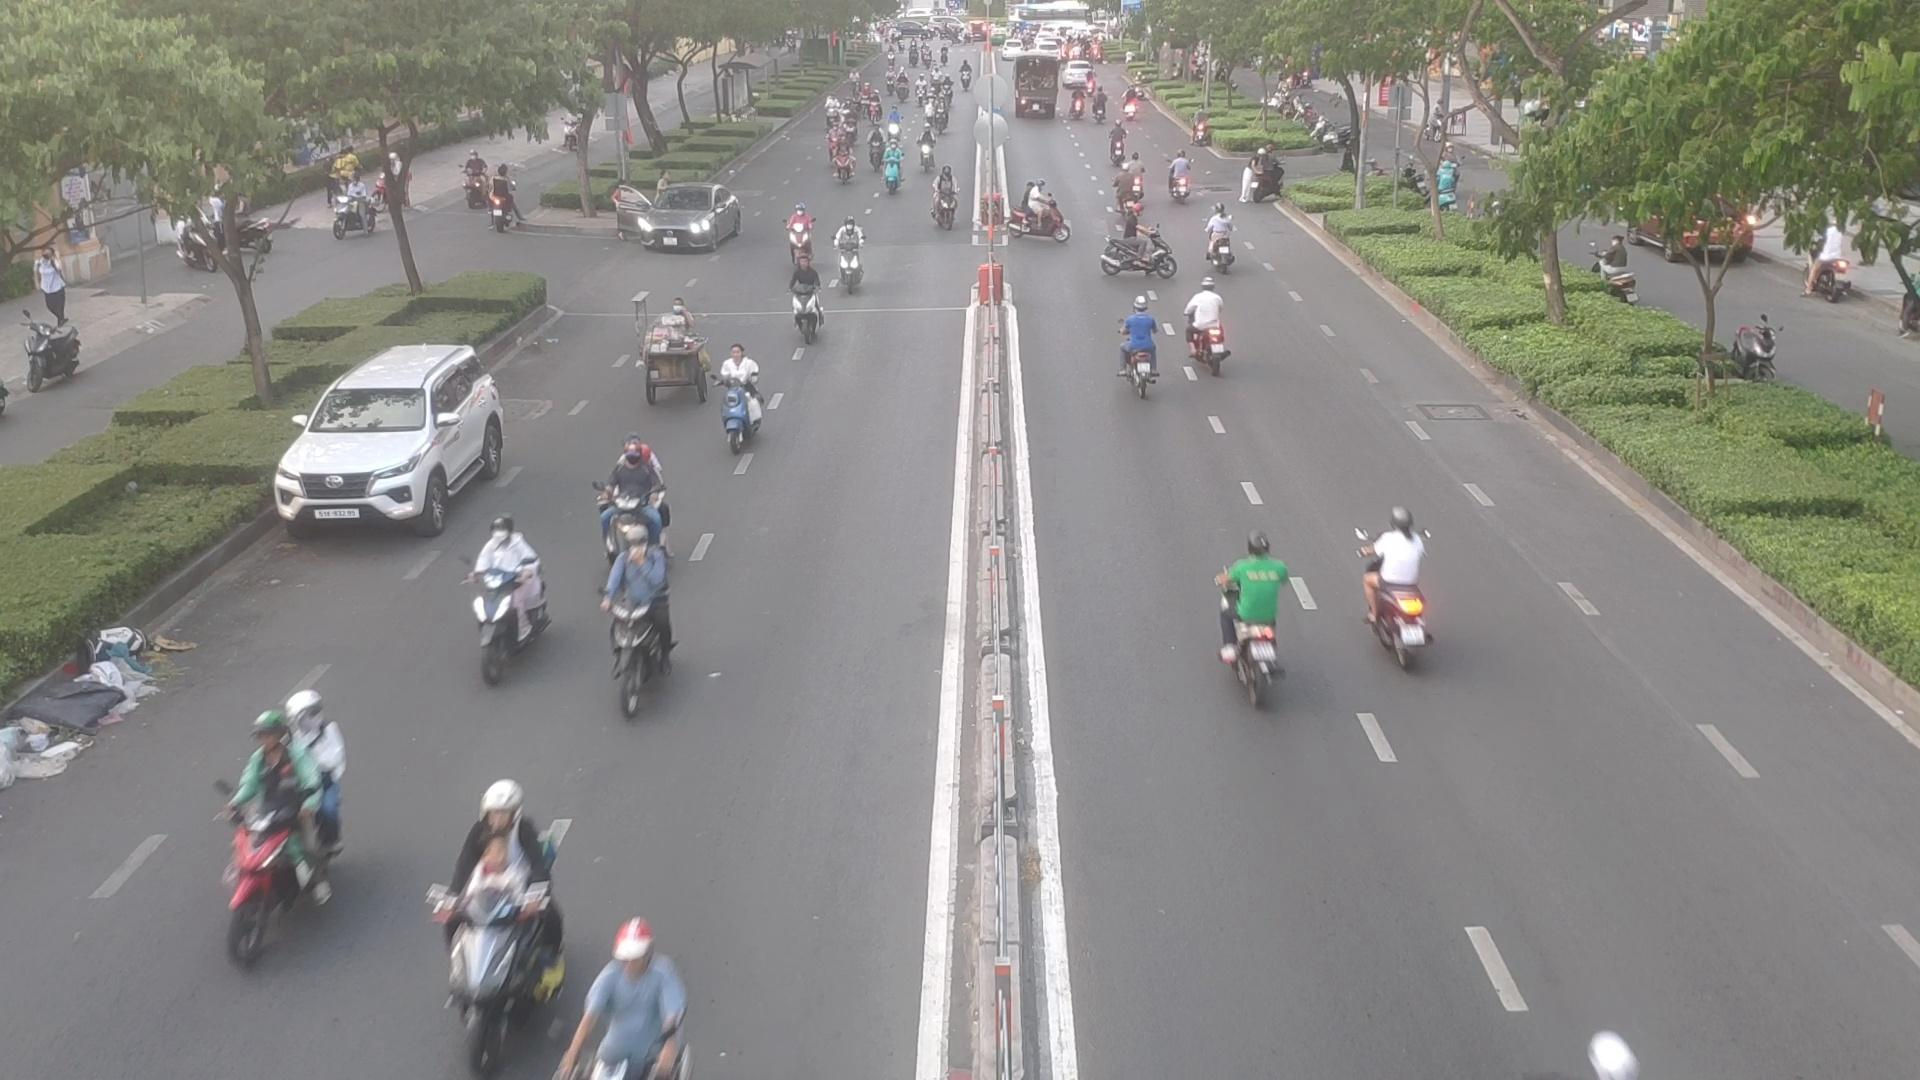car: (270, 343, 512, 535), (616, 187, 749, 258)
motorbike: (219, 698, 345, 926), (454, 786, 560, 1054), (574, 910, 679, 1080), (593, 529, 674, 694), (1215, 535, 1294, 690), (476, 498, 535, 691), (1361, 512, 1431, 661), (601, 430, 674, 539), (711, 339, 764, 448), (1101, 208, 1174, 281), (1009, 179, 1069, 251), (1184, 277, 1224, 371), (1121, 303, 1154, 404), (787, 258, 823, 343), (831, 214, 864, 301), (1207, 203, 1240, 276), (934, 171, 967, 233), (786, 190, 814, 261), (1164, 142, 1189, 207), (877, 146, 903, 196), (1101, 119, 1129, 164), (831, 142, 860, 181), (1116, 164, 1134, 206)
